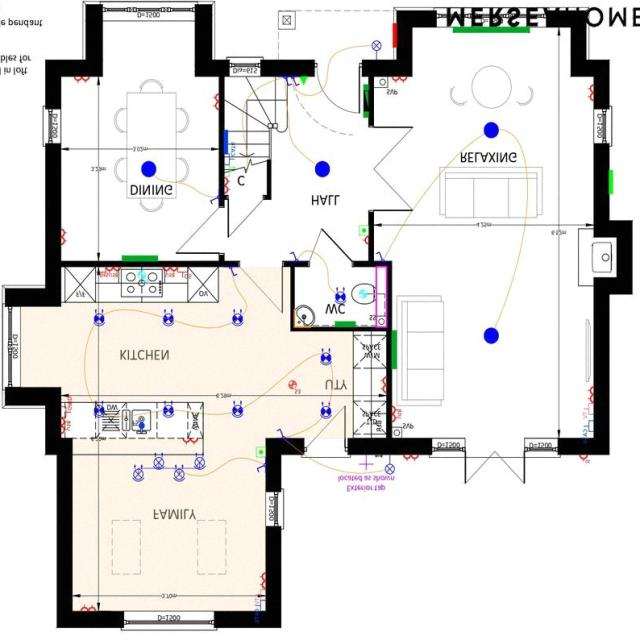BT Entry Point: (299, 78, 306, 86)
Cat 6 Data Socket: (224, 143, 235, 166), (582, 421, 592, 439), (253, 602, 265, 614)
Ceiling Mounted Continuous Extract FanWith Boost Mode Activated By Light Switch: (358, 291, 366, 299)
Ceiling Mounted Continuous Extract FanWith Local Boost Switch: (287, 380, 301, 395)
Co-Ax TV Socket: (581, 405, 593, 420)
Consumer Unit: (362, 91, 368, 112)
Double Socket: (402, 455, 419, 463), (79, 604, 95, 612), (182, 438, 198, 446), (379, 376, 386, 394), (60, 230, 67, 246), (73, 77, 89, 84), (211, 94, 218, 110), (223, 178, 230, 194), (586, 387, 593, 403), (259, 572, 265, 590), (391, 77, 405, 84), (586, 86, 592, 102)
Electric Meter Box: (392, 24, 396, 48)
External Wall Light: (357, 456, 372, 472), (384, 455, 395, 475), (371, 41, 381, 61)
Gas Meter Box: (608, 171, 612, 195)
Grid Switch: (60, 398, 72, 418)
Hob Switch: (96, 267, 107, 279)
Light Switch: (374, 252, 384, 262), (289, 252, 298, 262), (256, 463, 264, 474), (282, 78, 291, 87), (276, 429, 284, 438), (209, 196, 217, 205), (291, 78, 299, 87), (228, 268, 236, 276)
Low Energy Downlighter: (230, 400, 242, 418), (231, 310, 243, 328), (162, 310, 174, 327), (319, 349, 331, 366), (319, 402, 331, 419), (93, 310, 104, 328), (162, 402, 174, 418), (93, 402, 104, 418), (334, 288, 345, 304)
Low Energy Pendant Light: (482, 328, 498, 345), (140, 162, 156, 178), (482, 123, 498, 139), (314, 162, 329, 178)
Outside Socket: (579, 456, 589, 464)
Oven Switch: (178, 268, 190, 280)
Programmable Room Thermostat: (358, 226, 368, 237), (256, 447, 265, 459)
Radiator: (451, 27, 529, 34), (391, 331, 397, 370), (121, 256, 157, 262), (363, 85, 368, 118), (334, 322, 354, 328)
Recirculating Extractor Fan: (137, 272, 148, 284)
Single Socket: (362, 236, 367, 245)
TV - Satellite Multisocket: (253, 591, 264, 605)
Telephone Socket: (223, 166, 233, 178)
Track Light: (130, 453, 204, 483)
USB Double Socket: (391, 406, 401, 423), (60, 418, 70, 434), (161, 268, 177, 278), (106, 267, 119, 279)
Underfloor Heating Manifold: (222, 130, 228, 154)
Water Entry Position: (138, 423, 143, 430)
